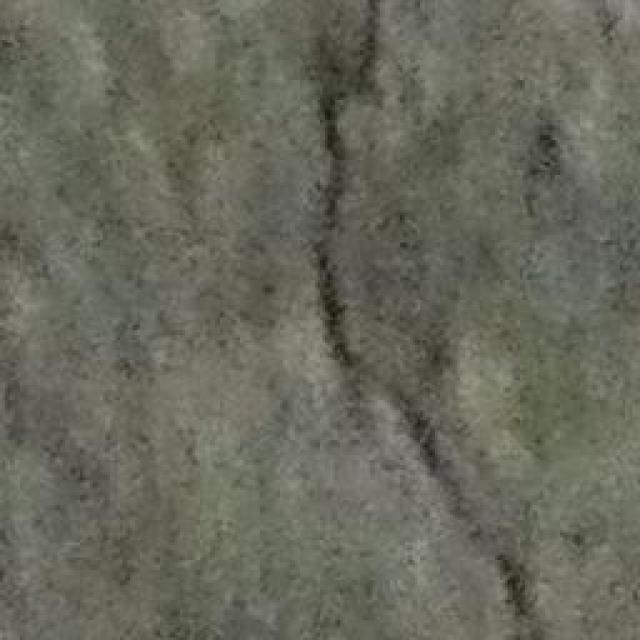Longitudinal: (280, 0, 558, 635)
